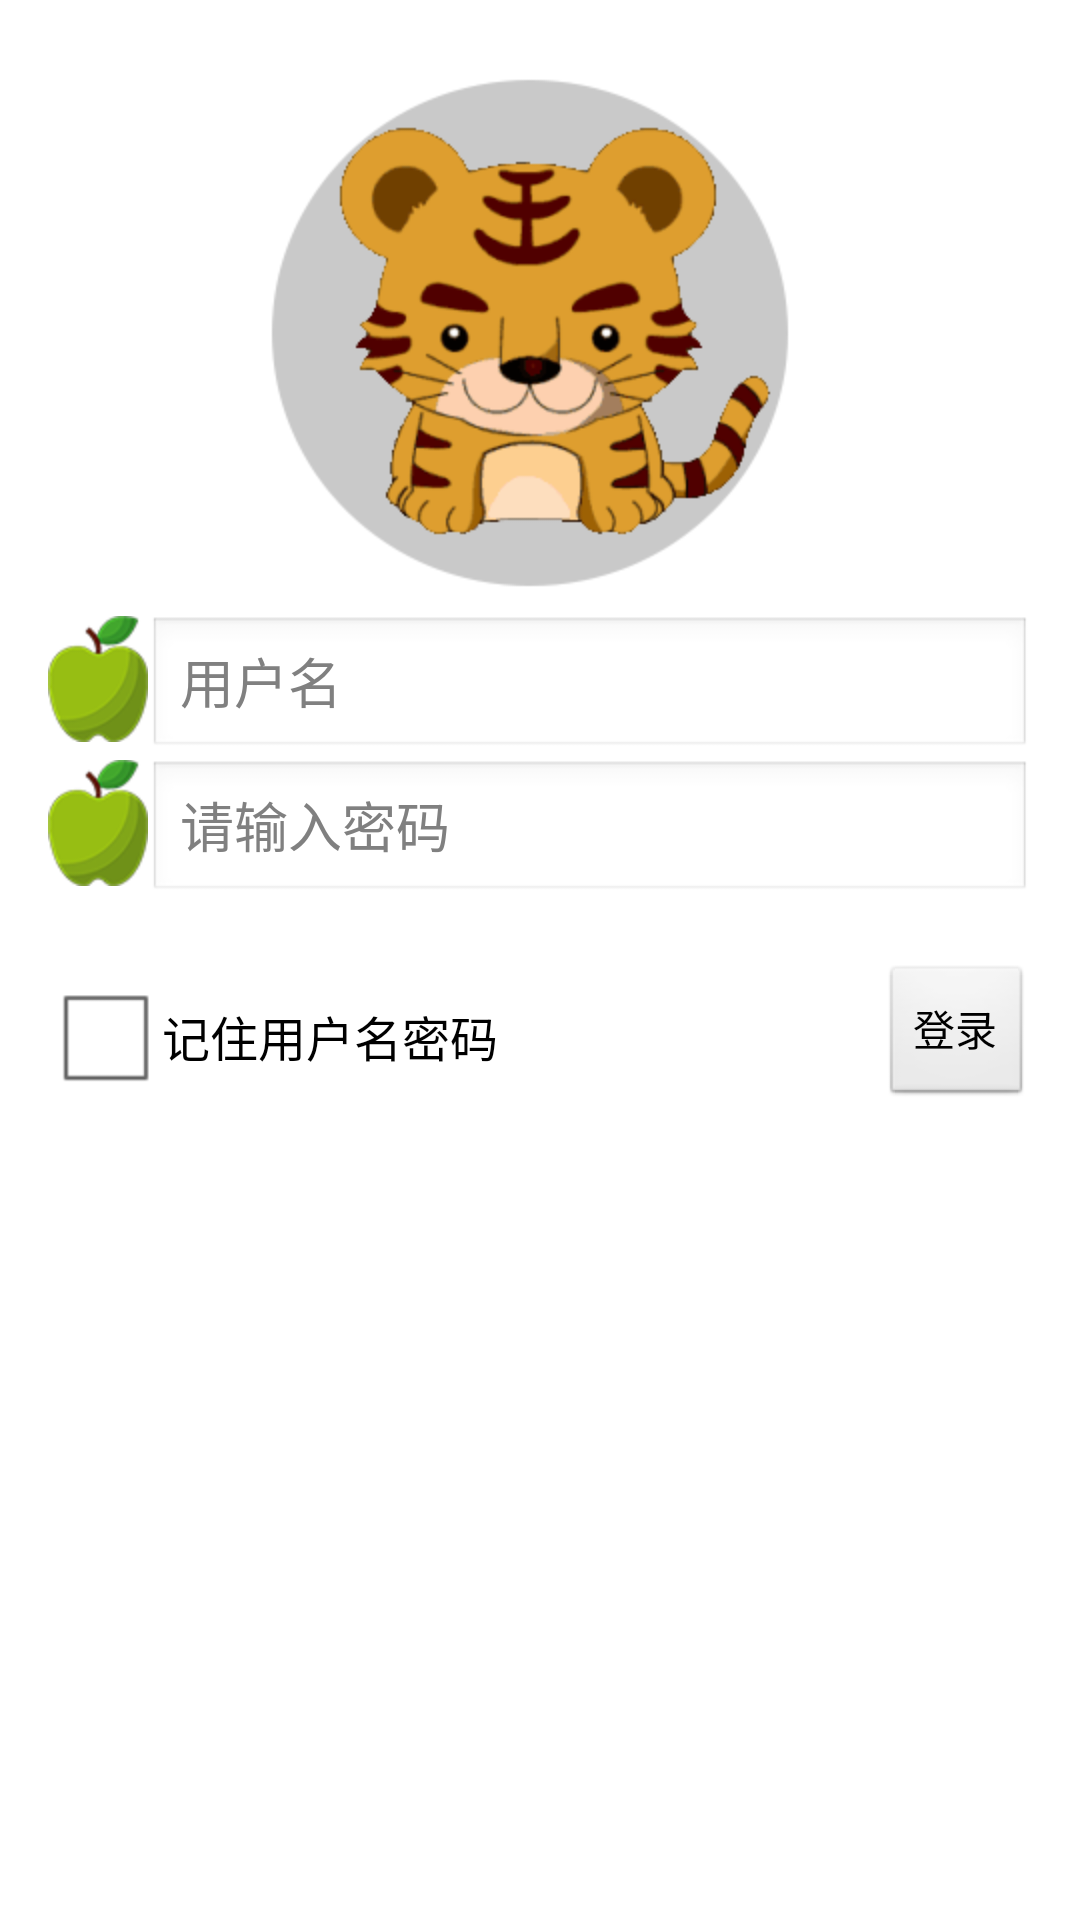

Named icons in this screenshot (1080w x 1920h) and their centers, (x,y):
pingguo: (98,679), (98,823)
